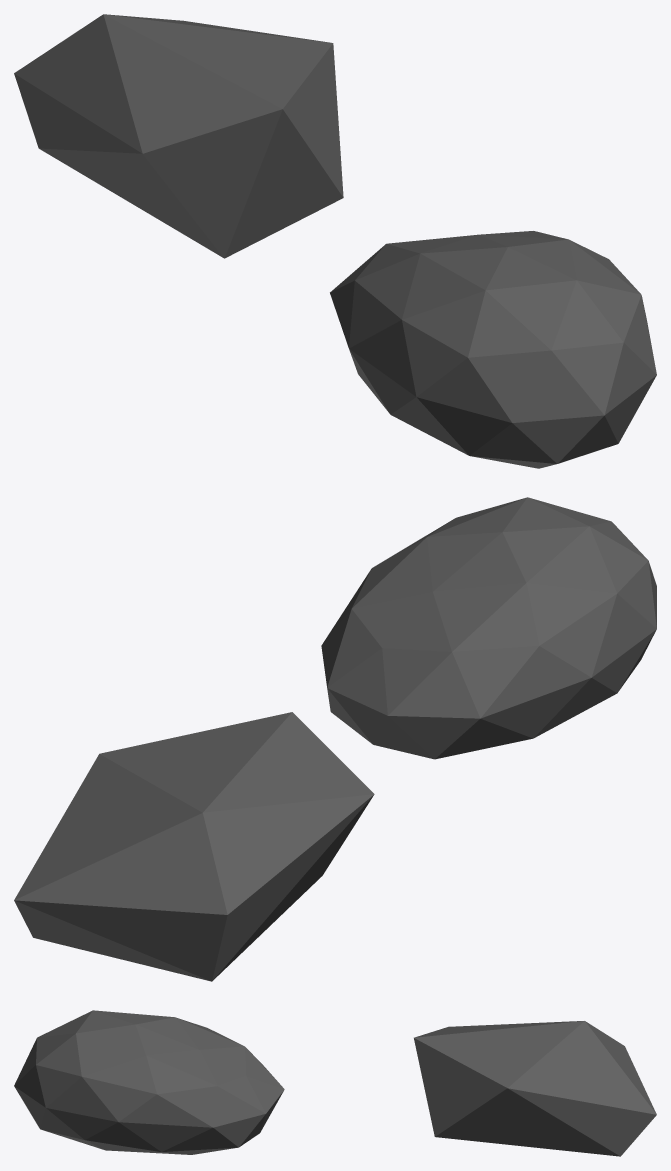
File: Kamien_1.fbx
3 renders of one model, top to bottom at view 1: azimuth 30°, elevation 25°; view 2: azimuth 150°, elevation 25°; view 3: azimuth 270°, elevation 25°, orthographic. The views are drawn at different scales.
Parts seen in each view (by area): view 1: Icosphere, Icosphere.001; view 2: Icosphere, Icosphere.001; view 3: Icosphere, Icosphere.001.
Boxes of the visible parts, x1,y1,x2,y2 form: Icosphere: [330, 231, 656, 468]; Icosphere.001: [14, 14, 343, 258]; Icosphere: [321, 497, 656, 759]; Icosphere.001: [14, 712, 374, 981]; Icosphere: [14, 1010, 284, 1154]; Icosphere.001: [414, 1021, 656, 1156].
Bounding box in the file's own units: 33.21 × 23.43 × 117.
